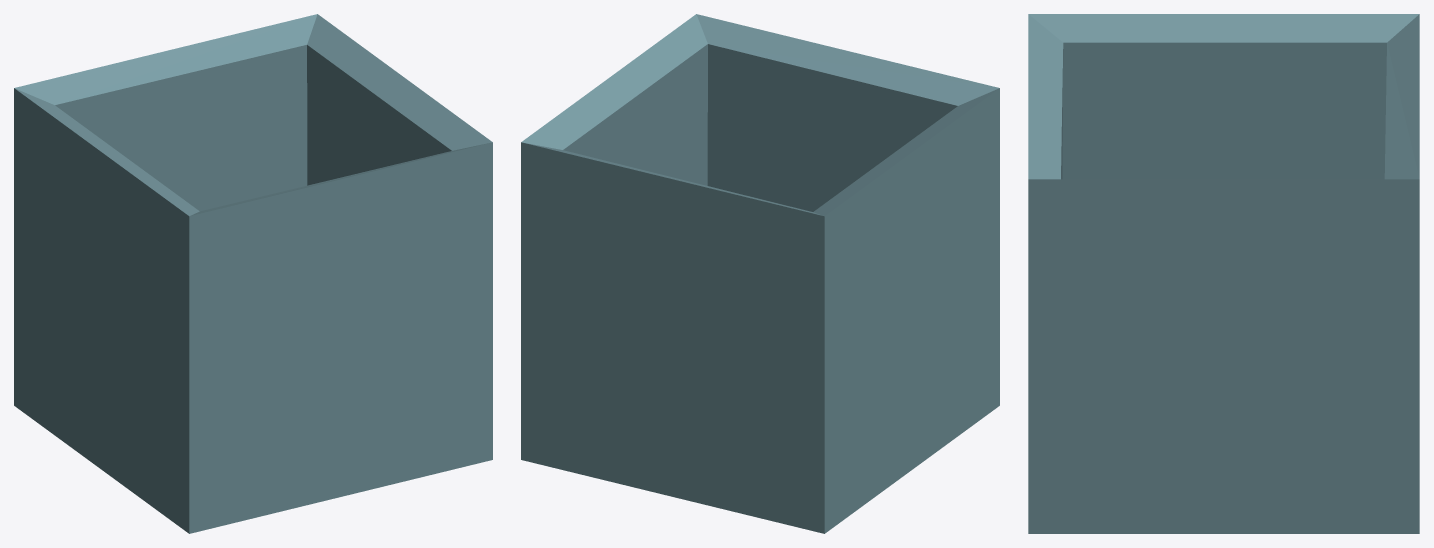
The model's file is demo_scene_big_box.obj.
The picture shows the model from 3 angles, left to right: view 1: azimuth 30°, elevation 25°; view 2: azimuth 150°, elevation 25°; view 3: azimuth 270°, elevation 25°; orthographic projection. The views are drawn at different scales.
Visible parts, largest first — view 1: water_container_water_container_mesh; view 2: water_container_water_container_mesh; view 3: water_container_water_container_mesh.
Boxes of the visible parts, left/top/right/bottom form: water_container_water_container_mesh: left=14, top=14, right=492, bottom=533; water_container_water_container_mesh: left=521, top=14, right=999, bottom=533; water_container_water_container_mesh: left=1028, top=14, right=1419, bottom=533.
Bounding box in the file's own units: 21.66 × 21.66 × 21.66.
